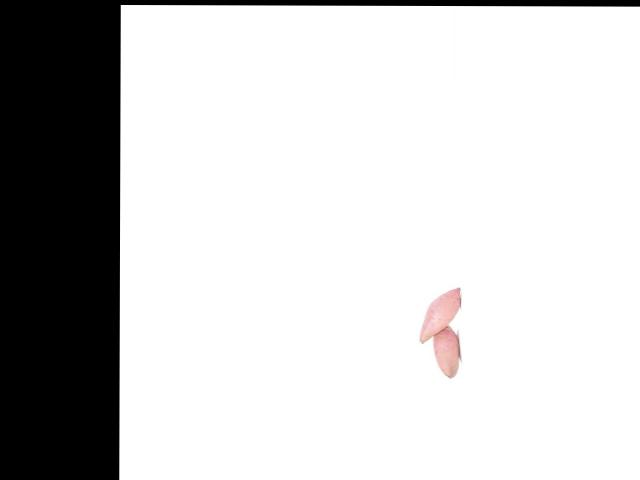sweet_potato: (429, 320, 459, 380)
